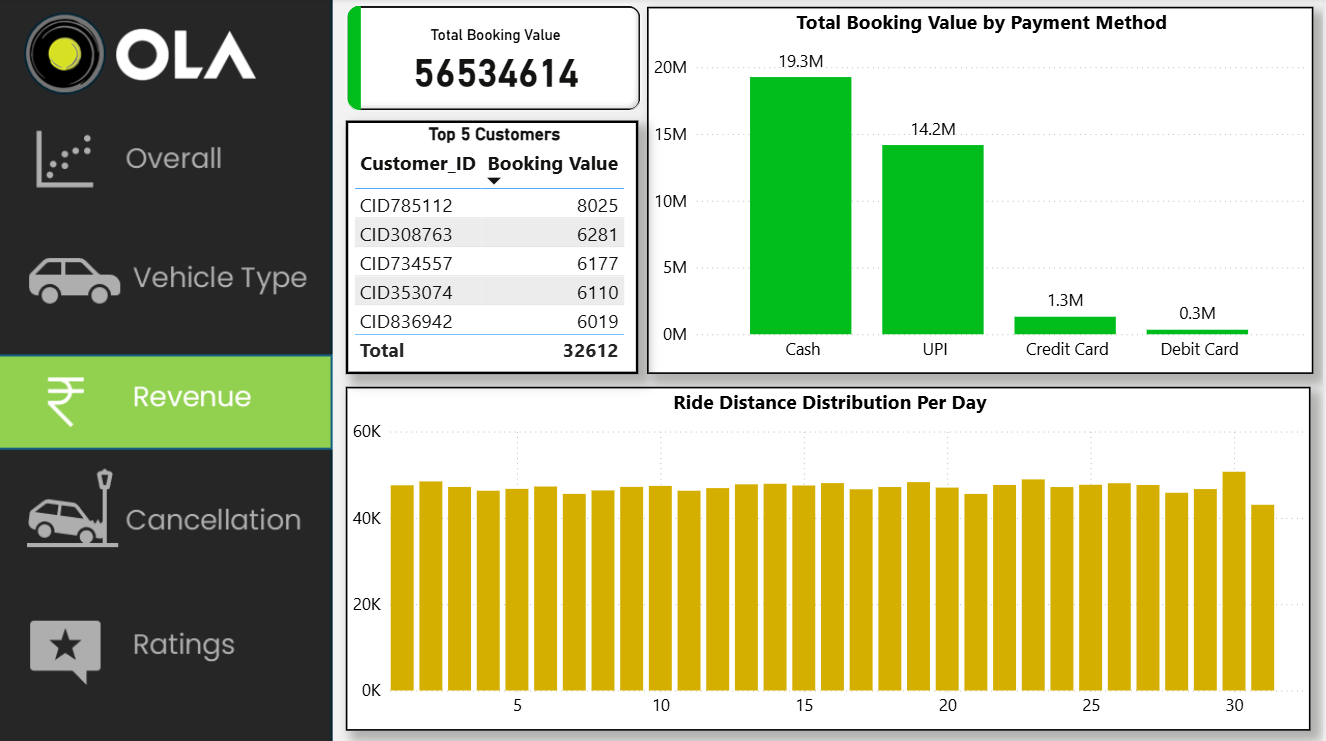

Layout of this report page (visuals, bound fields, positions):
{"tool":"powerbi","page":{"name":"Revenue","canvas":[1280,720],"ordinal":2},"visuals":[{"type":"actionButton","box":[0,223.2,326.9,91.7],"z":0},{"type":"actionButton","box":[0,113.4,326.9,91.7],"z":1000},{"type":"actionButton","box":[0,580.3,326.9,91.7],"z":2000},{"type":"actionButton","box":[0,458.4,326.9,91.7],"z":3000},{"type":"columnChart","title":"Total Booking Value by Payment Method","fields":{"Category":["Bookings.Payment_Method"],"Y":["Sum(Bookings.Booking_Value)"]},"box":[627.3,8.4,643,354.7],"z":4000},{"type":"columnChart","title":"Ride Distance Distribution Per Day","fields":{"Category":["Bookings.Date.Variation.Date Hierarchy.Day"],"Y":["Sum(Bookings.Ride_Distance)"]},"box":[336.6,375.2,931.4,331.8],"z":5000},{"type":"tableEx","title":"Top 5 Customers","fields":{"Values":["Bookings.Customer_ID","Sum(Bookings.Booking_Value)"]},"box":[336.6,118.2,282.3,244.9],"z":6000},{"type":"cardVisual","fields":{"Data":["Bookings.Total Booking Value"]},"box":[331.8,1.2,295.6,113.4],"z":7000}]}

Visuals, with their boxes on the page's 1280x720 design canvas (x1, y1, x2, y2). These are canvas units, not pixel positions in the 1326x741 screenshot, which may show the page scaled, cropped or inside an application window:
actionButton: [x1=0, y1=223, x2=327, y2=315]
actionButton: [x1=0, y1=113, x2=327, y2=205]
actionButton: [x1=0, y1=580, x2=327, y2=672]
actionButton: [x1=0, y1=458, x2=327, y2=550]
"Total Booking Value by Payment Method" columnChart: [x1=627, y1=8, x2=1270, y2=363]
"Ride Distance Distribution Per Day" columnChart: [x1=337, y1=375, x2=1268, y2=707]
"Top 5 Customers" tableEx: [x1=337, y1=118, x2=619, y2=363]
cardVisual - Bookings.Total Booking Value: [x1=332, y1=1, x2=627, y2=115]
